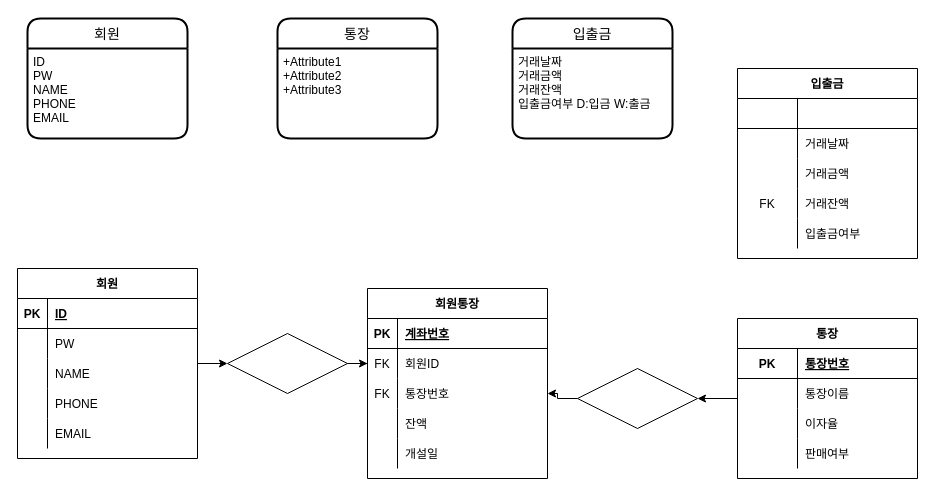
The diagram is 935 pixels wide and 496 high, and some of its shapes have lost their labels. The shapes that lost their labels are listed below. From the top down, each one's centre as x and y in pixels, then its label:
the point at 287,363: 개설
the point at 637,398: 통장정보
